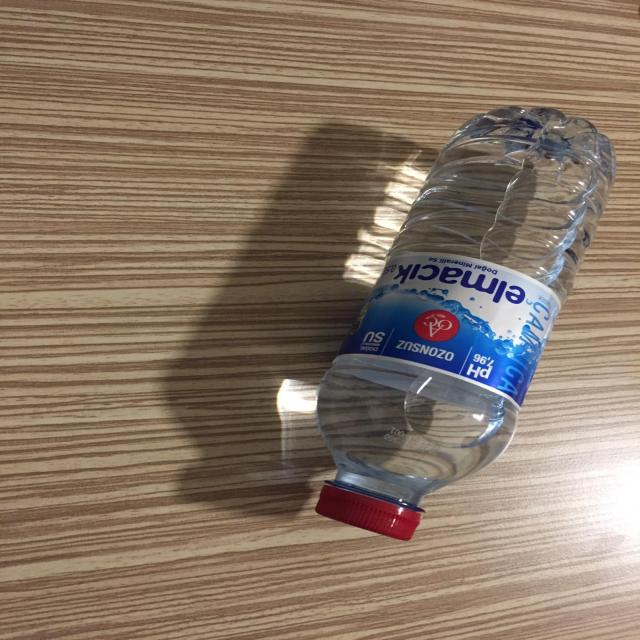bottle: (292, 95, 616, 555)
